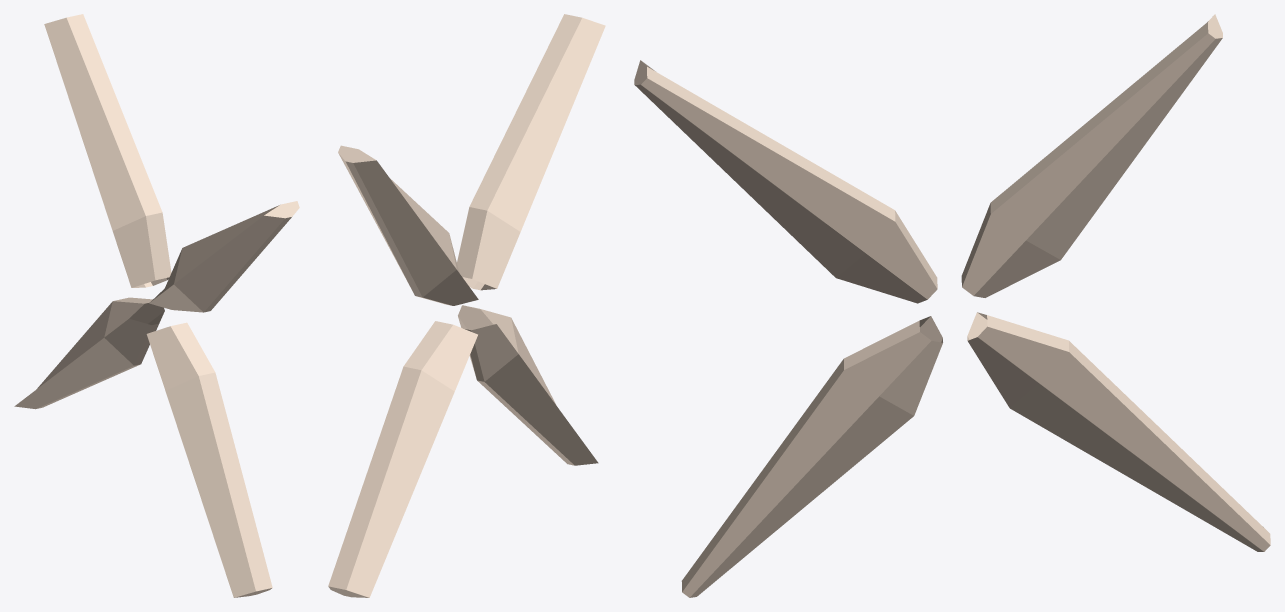
Rendered from boat_fan.FBX.
The picture shows the model from 3 angles, left to right: view 1: azimuth 30°, elevation 25°; view 2: azimuth 150°, elevation 25°; view 3: azimuth 270°, elevation 25°; orthographic projection. The views are drawn at different scales.
Parts seen in each view (by area): view 1: boat_fan; view 2: boat_fan; view 3: boat_fan.
Part boxes in pixels (x1,y1,x2,y2): boat_fan: (14, 14, 299, 597); boat_fan: (328, 14, 605, 597); boat_fan: (634, 14, 1270, 597).
Bounding box in the file's own units: 1.49 × 12.25 × 12.25.
